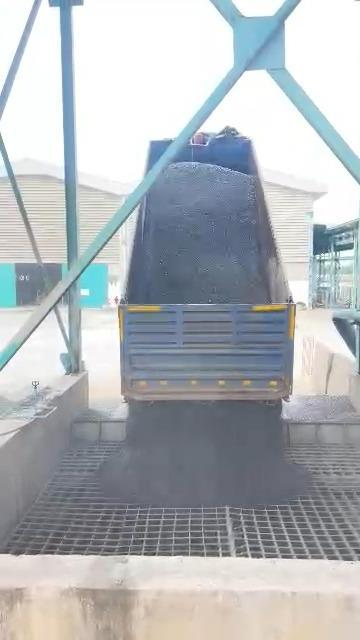gravel: (100, 402, 309, 506), (128, 164, 269, 301), (283, 394, 360, 423)
